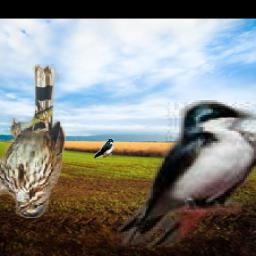Sparrow: (0, 64, 66, 218)
Swallow: (118, 100, 256, 247), (94, 139, 114, 159)
